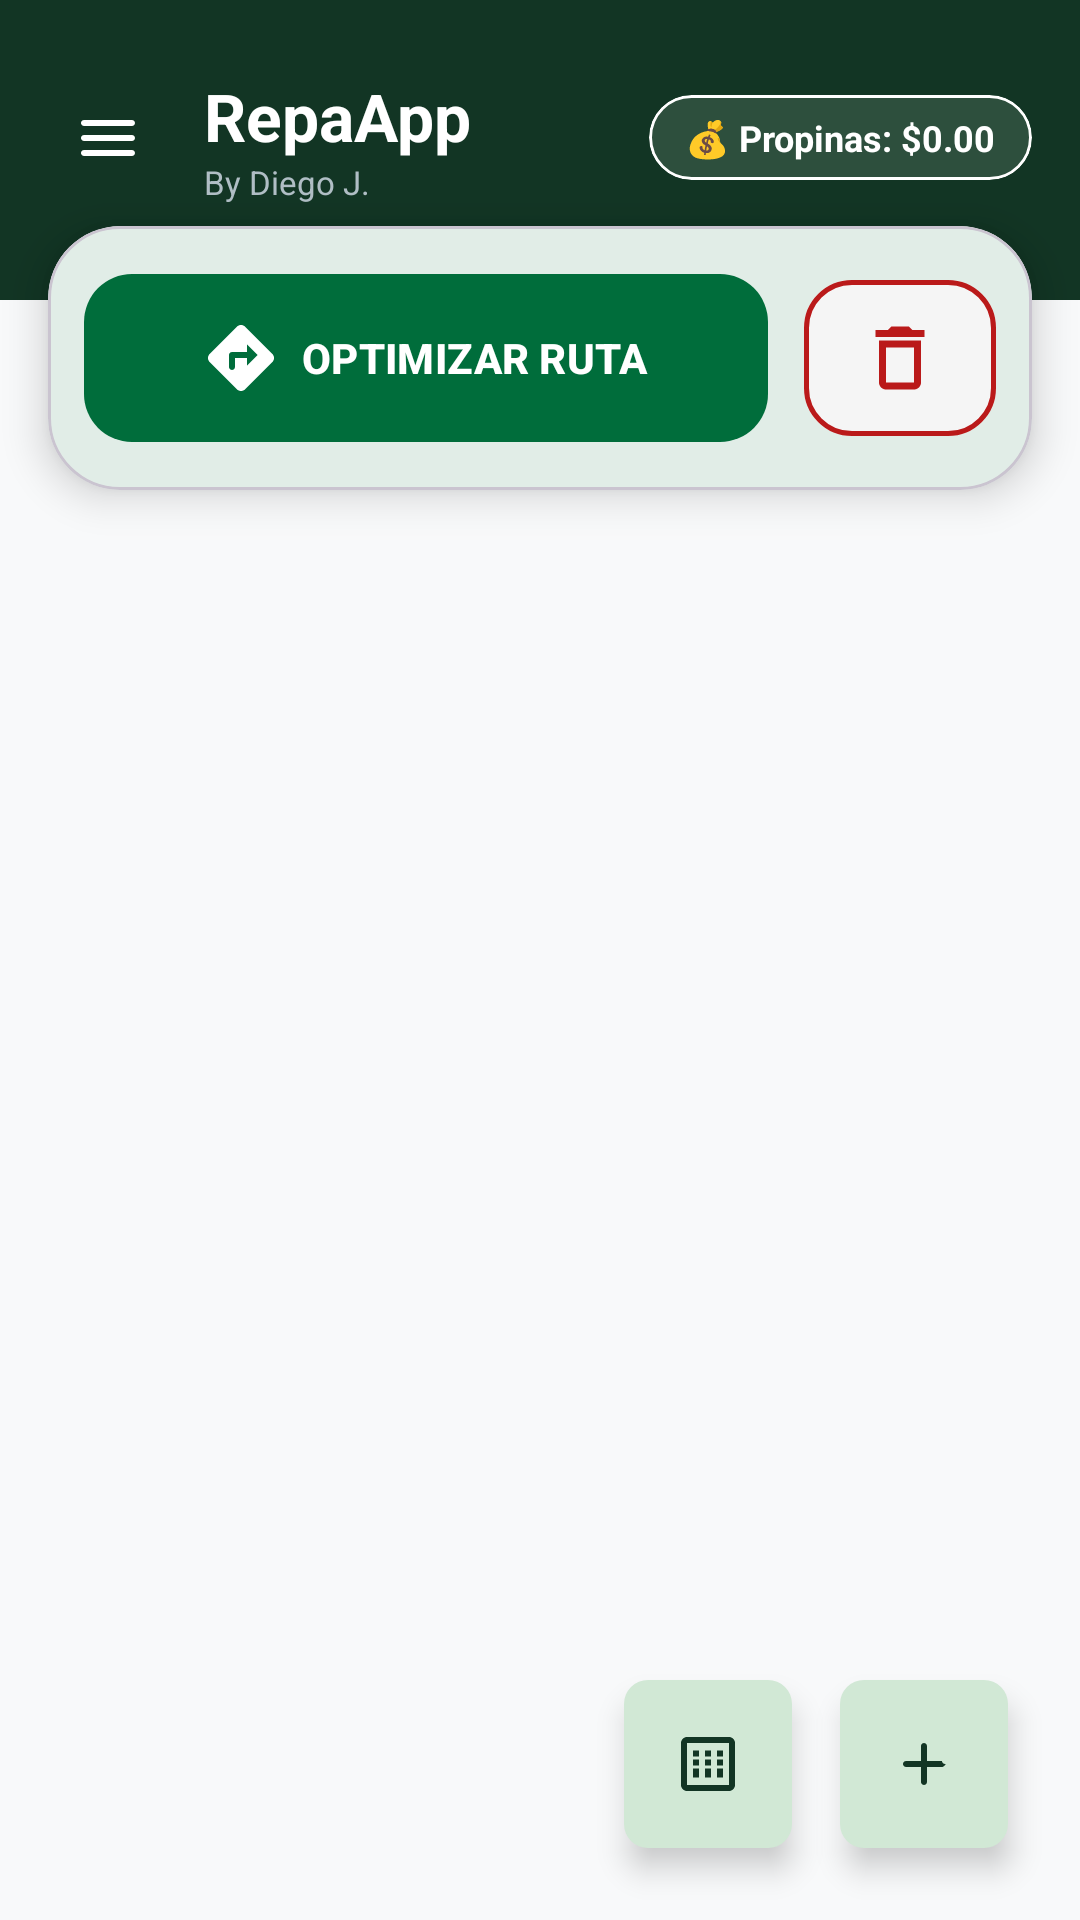

Point at icon controls on the screen. Image size 1080 × 1920, points as [x,y].
Agregar pedido: [924,1764]
Calculadora: [708,1764]
delete: [900,358]
